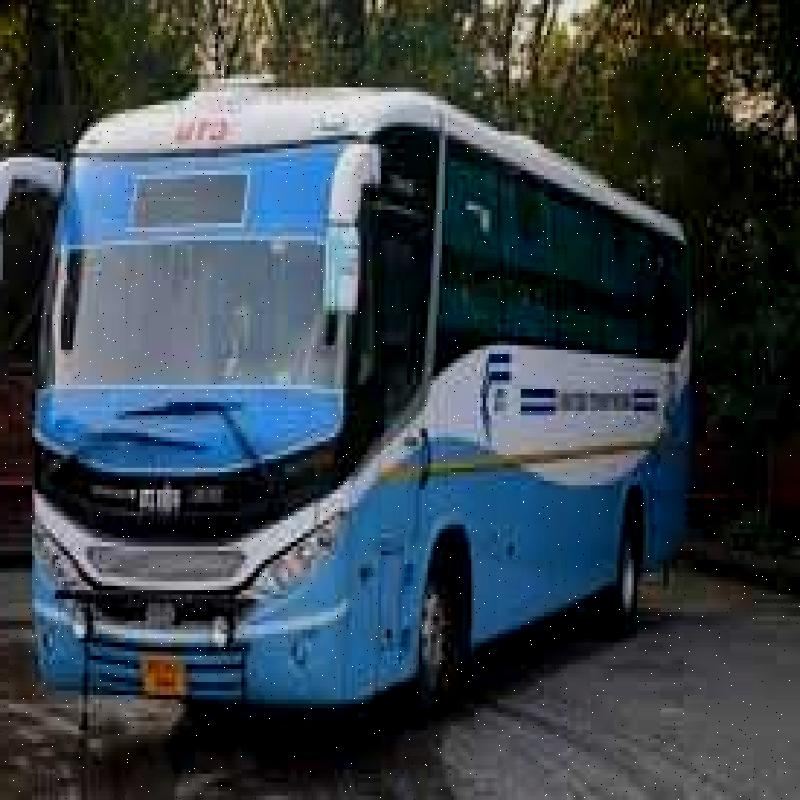bus: (0, 63, 706, 762)
